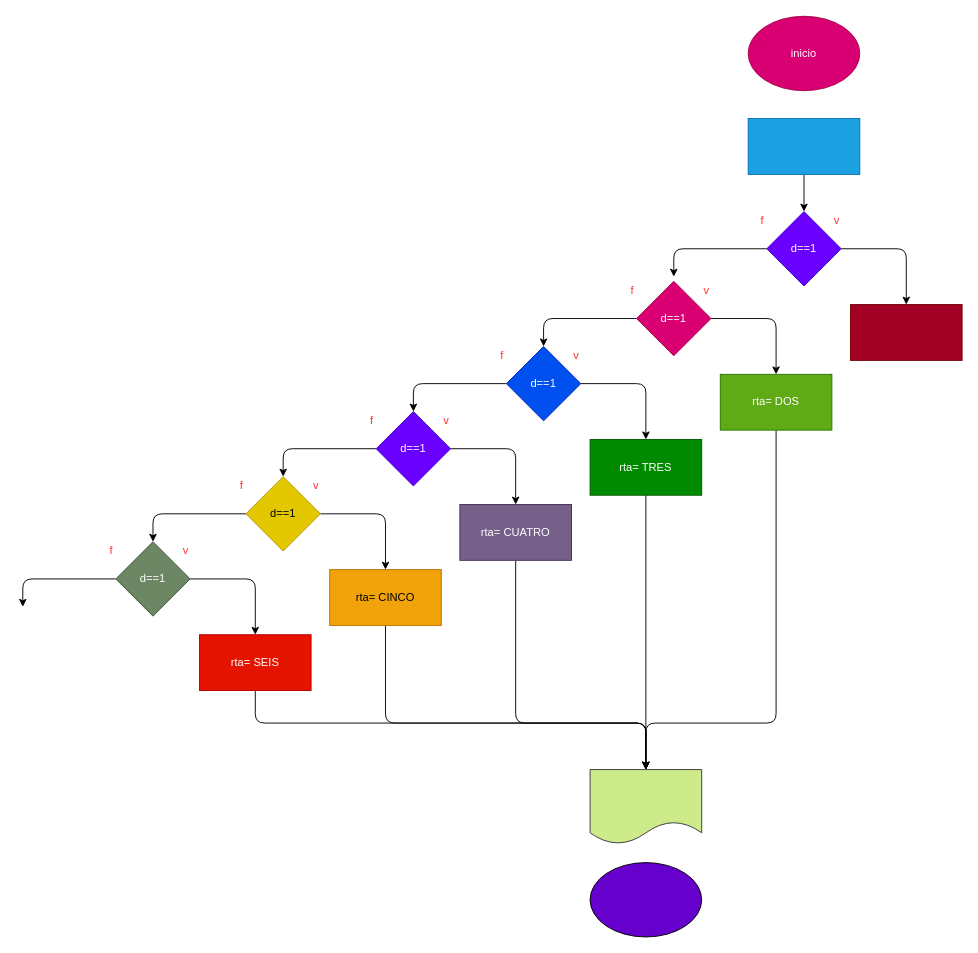
The diagram is 978 pixels wide and 953 high, and some of its shapes have lost their labels. Each missing label, with the centre of its shape:
"d =ramdon (1,6)" goes at [803,146].
"rta" goes at [645,806].
"rta= UNO" goes at [906,332].
